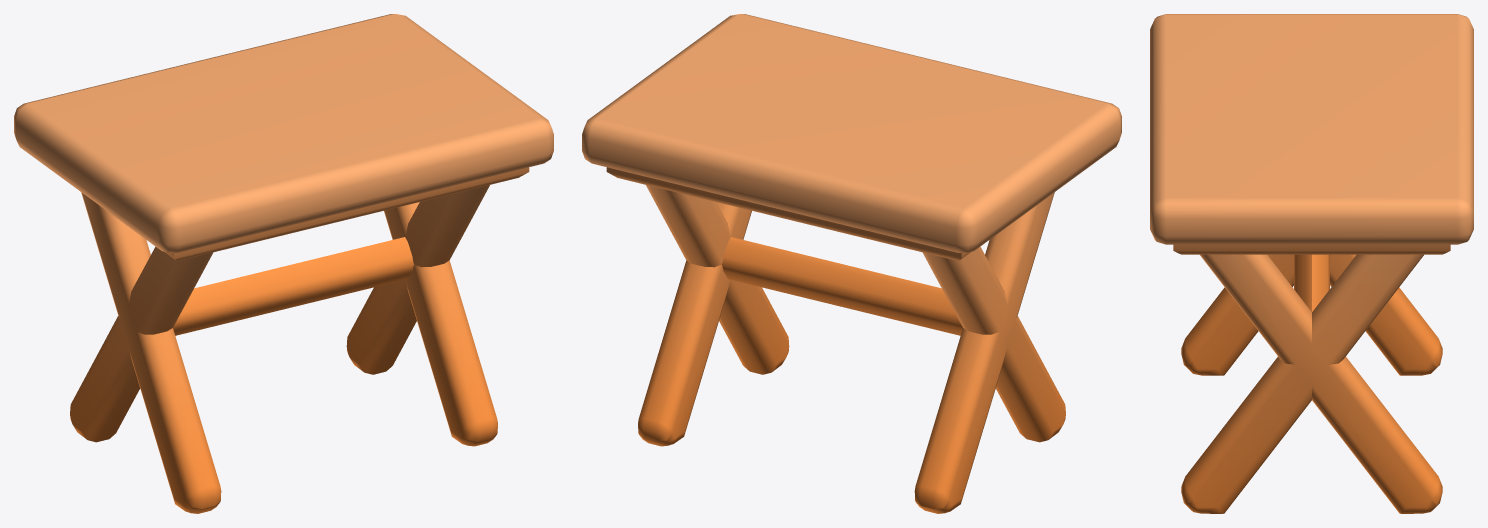
Rendered from Kitchen_Table_003.fbx.
The picture shows the model from 3 angles, left to right: view 1: azimuth 30°, elevation 25°; view 2: azimuth 150°, elevation 25°; view 3: azimuth 270°, elevation 25°; orthographic projection. The views are drawn at different scales.
Visible parts, largest first — view 1: Kitchen_Table_003; view 2: Kitchen_Table_003; view 3: Kitchen_Table_003.
Part boxes in pixels (x1=…): Kitchen_Table_003: x1=14, y1=14, x2=553, y2=513; Kitchen_Table_003: x1=582, y1=14, x2=1121, y2=513; Kitchen_Table_003: x1=1150, y1=14, x2=1473, y2=513.
Bounding box in the file's own units: 1.03 × 0.8169 × 0.7155.
